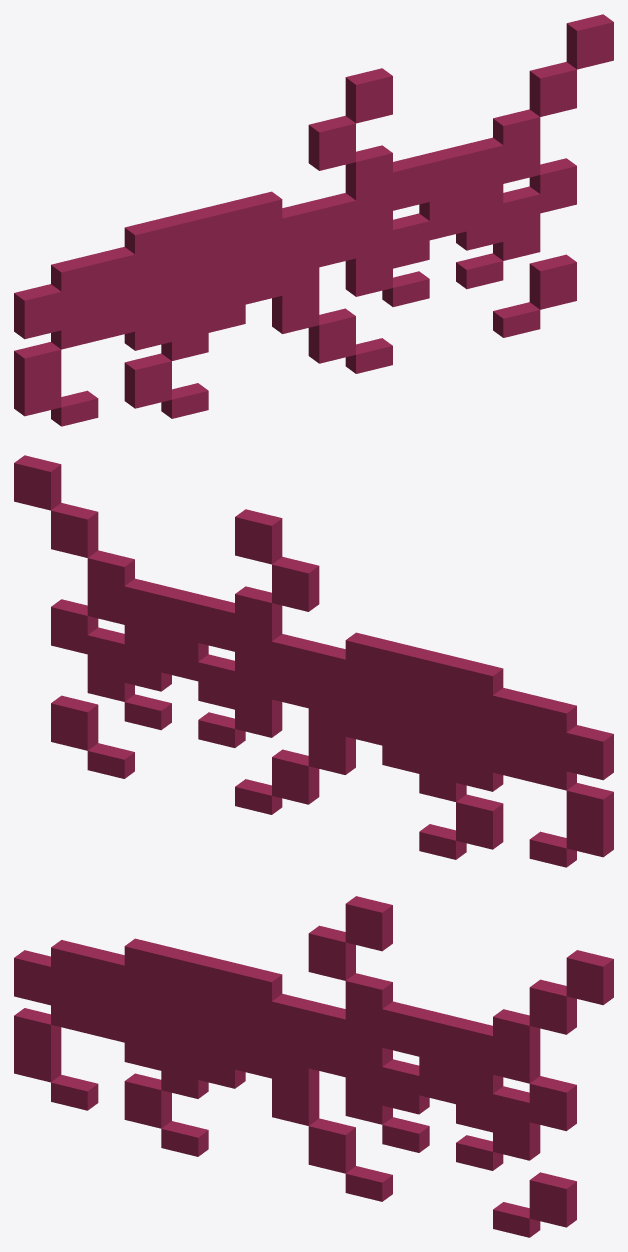
The model's file is Ant-Purple.vox.obj.
The picture shows the model from 3 angles, top to bottom: view 1: azimuth 30°, elevation 25°; view 2: azimuth 150°, elevation 25°; view 3: azimuth 330°, elevation 25°; orthographic projection.
Size of the model in its own units: 3.2 by 1.5 by 0.1.
1 material, 1 textured.
